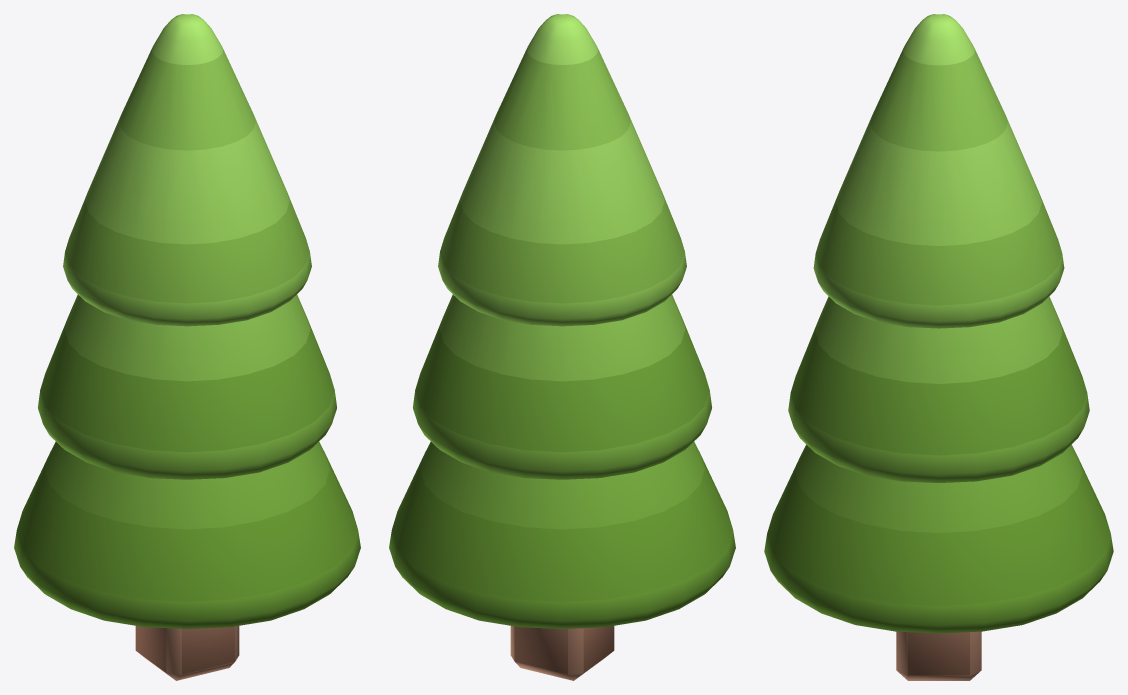
Rendered from tree_4.fbx.
The picture shows the model from 3 angles, left to right: view 1: azimuth 30°, elevation 25°; view 2: azimuth 150°, elevation 25°; view 3: azimuth 270°, elevation 25°; orthographic projection.
Parts seen in each view (by area): view 1: tree_4; view 2: tree_4; view 3: tree_4.
Part boxes in pixels (bbox=[...]): tree_4: bbox=[14, 14, 360, 680]; tree_4: bbox=[389, 14, 735, 680]; tree_4: bbox=[764, 14, 1113, 680].
Bounding box in the file's own units: 120 × 247 × 121.
